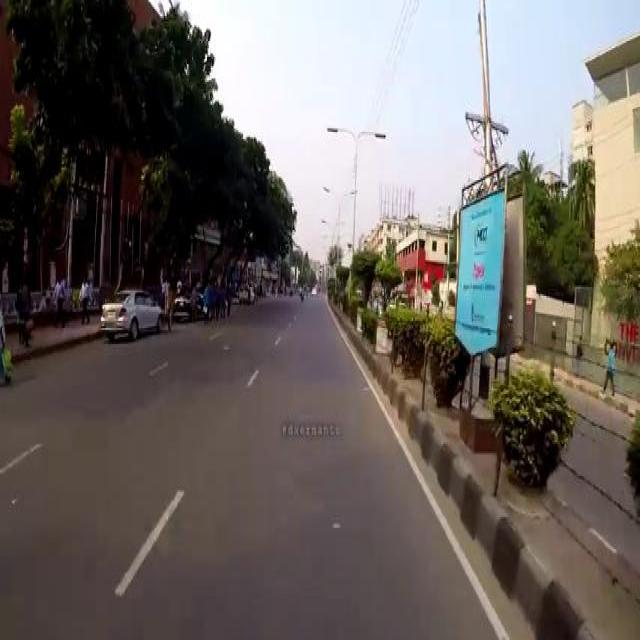car: (99, 285, 163, 337), (172, 284, 202, 320), (236, 284, 254, 300)
